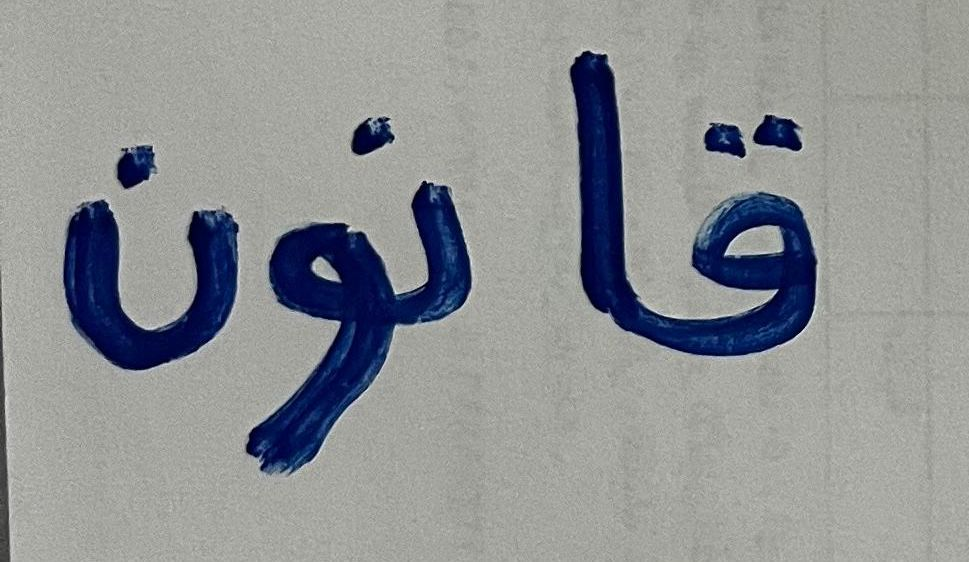alef: (535, 24, 661, 451)
noon: (42, 100, 239, 391), (372, 83, 490, 346)
qaf: (673, 83, 850, 414)
waw: (246, 216, 366, 491)
